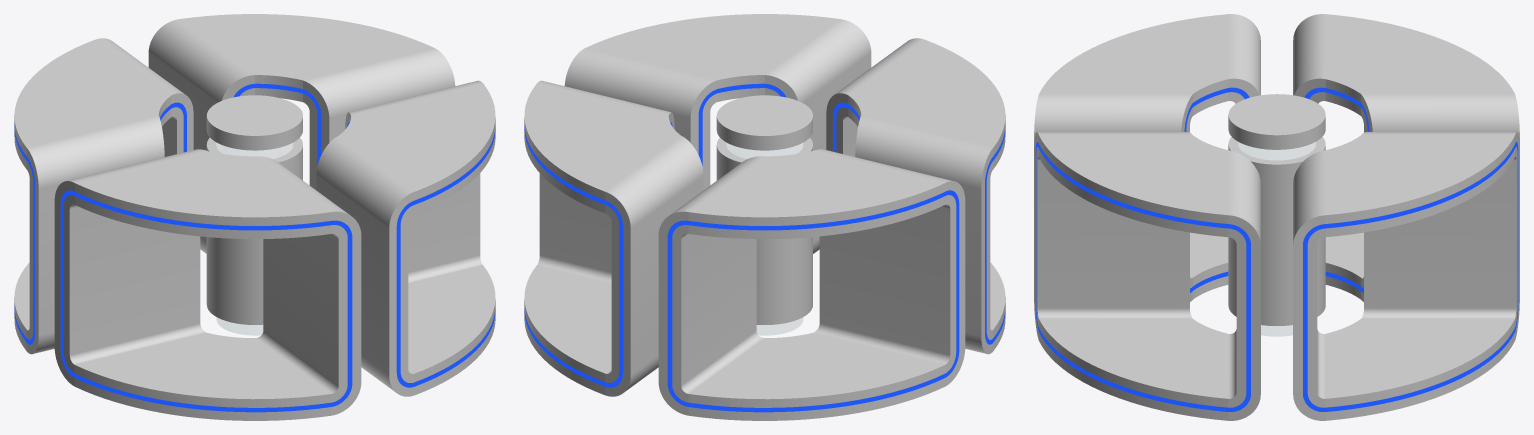
Rendered from 小展台1.FBX.
3 views of the same model, side by side, from view 1: azimuth 30°, elevation 25°; view 2: azimuth 150°, elevation 25°; view 3: azimuth 270°, elevation 25° (orthographic).
Visible parts, largest first — view 1: Rectangle2133400121, Rectangle2133400120, Rectangle2133400117, Circle230, Circle226, Circle224, Circle239, Circle232, Rectangle2133400123, Rectangle2133400125, Circle222, Rectangle2133400124 (+12 smaller); view 2: Rectangle2133400123, Rectangle2133400122, Rectangle2133400124, Circle236, Circle232, Circle239, Circle224, Circle226, Rectangle2133400121, Rectangle2133400119, Circle242, Rectangle2133400117 (+12 smaller); view 3: Rectangle2133400117, Rectangle2133400124, Circle222, Circle242, Circle224, Circle239, Circle226, Circle232, Rectangle2133400119, Rectangle2133400125, Circle217, Rectangle2133400120 (+15 smaller).
Boxes of the visible parts, x1,y1,x2,y2 form: Rectangle2133400121: (54, 149, 206, 386); Rectangle2133400120: (255, 156, 361, 415); Rectangle2133400117: (316, 136, 414, 396); Circle230: (75, 332, 331, 407); Circle226: (75, 151, 331, 225); Circle224: (339, 83, 495, 200); Circle239: (179, 14, 434, 88); Circle232: (14, 39, 171, 155); Rectangle2133400123: (26, 115, 164, 354); Rectangle2133400125: (303, 48, 455, 189); Circle222: (408, 265, 495, 381); Rectangle2133400124: (148, 19, 254, 253); Rectangle2133400123: (813, 149, 965, 386); Rectangle2133400122: (658, 156, 764, 415); Rectangle2133400124: (605, 136, 703, 396); Circle236: (688, 332, 944, 407); Circle232: (688, 151, 944, 225); Circle239: (524, 83, 680, 200); Circle224: (585, 14, 840, 88); Circle226: (848, 39, 1005, 155); Rectangle2133400121: (855, 115, 993, 354); Rectangle2133400119: (564, 48, 716, 189); Circle242: (524, 265, 611, 381); Rectangle2133400117: (765, 19, 871, 253); Rectangle2133400117: (1034, 132, 1192, 340); Rectangle2133400124: (1361, 132, 1519, 340); Circle222: (1039, 318, 1228, 407); Circle242: (1325, 318, 1514, 407); Circle224: (1039, 135, 1228, 223); Circle239: (1325, 135, 1514, 223); Circle226: (1039, 14, 1228, 102); Circle232: (1325, 14, 1514, 102); Rectangle2133400119: (1228, 150, 1260, 420); Rectangle2133400125: (1293, 150, 1325, 420); Circle217: (1228, 137, 1325, 325); Rectangle2133400120: (1034, 94, 1192, 301).
Size of the model in its own units: 1499 by 700 by 1499.
